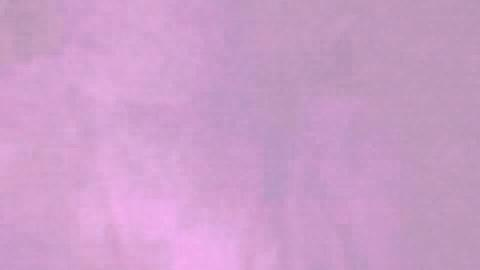tomato: (193, 121, 420, 268), (1, 129, 193, 268), (420, 140, 477, 268)
